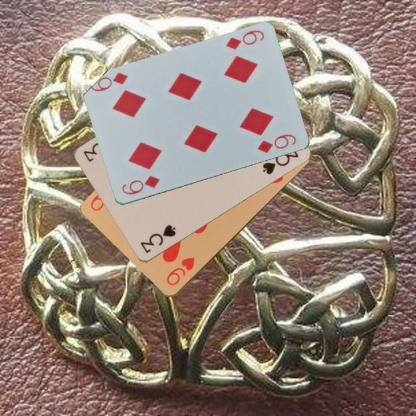3s: (138, 222, 178, 255)
6d: (118, 173, 160, 196), (223, 28, 265, 51)
9h: (163, 255, 196, 288)
